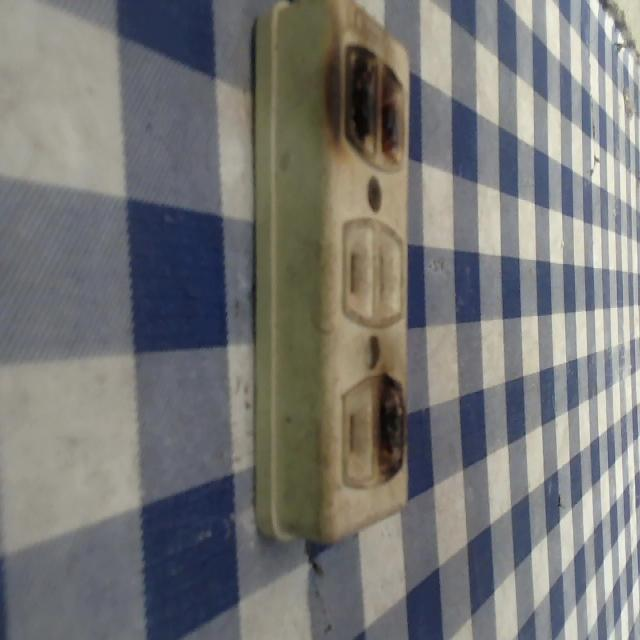-: (316, 31, 411, 176), (369, 368, 410, 485)
